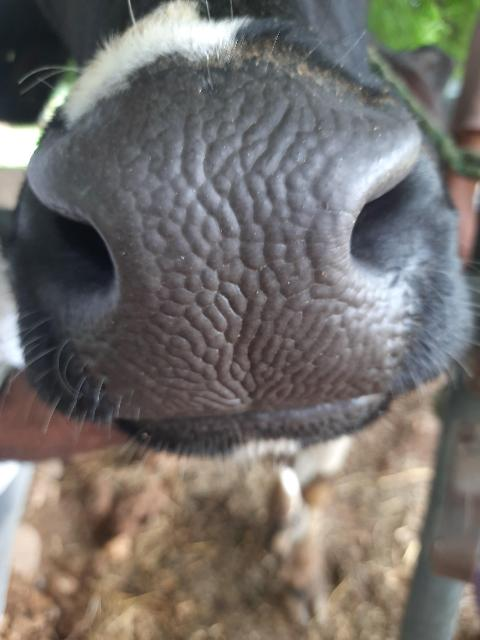Muzzle: (73, 121, 376, 397)
